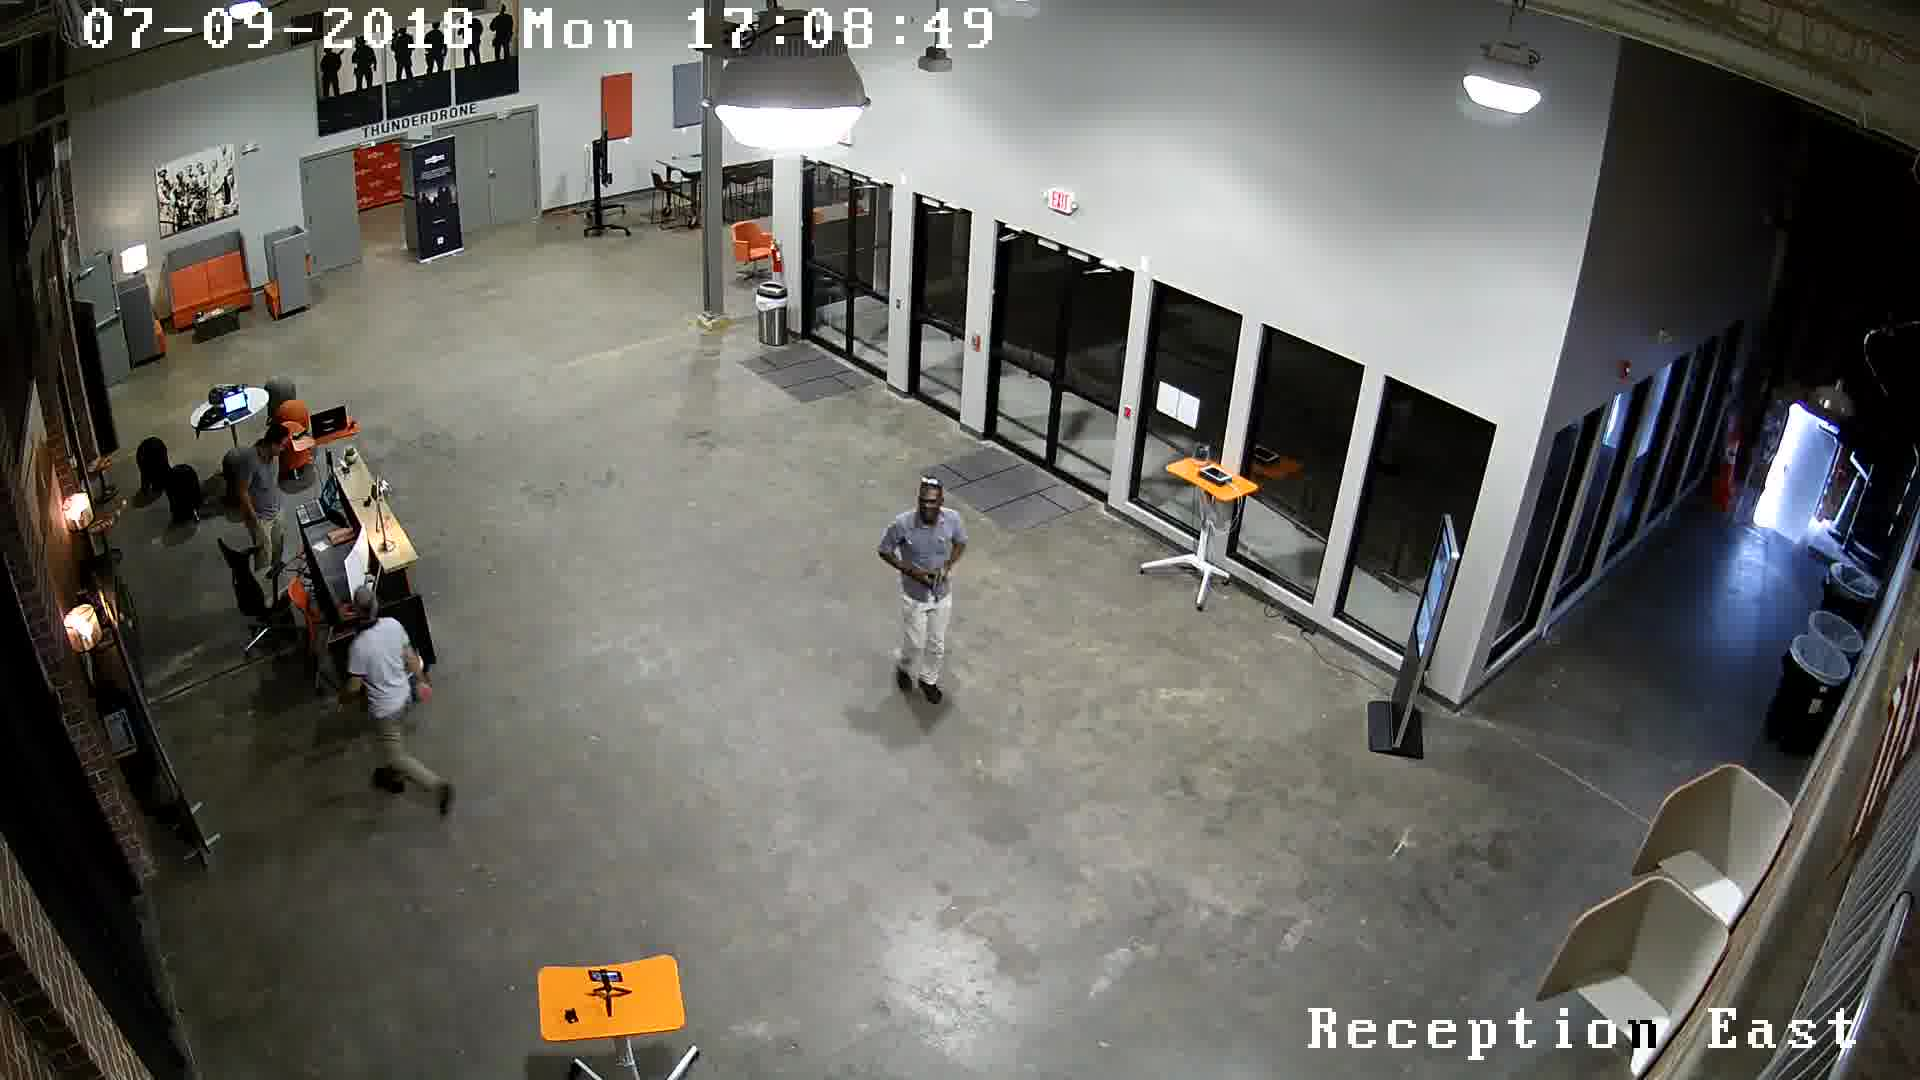pistol: (913, 559, 959, 608)
